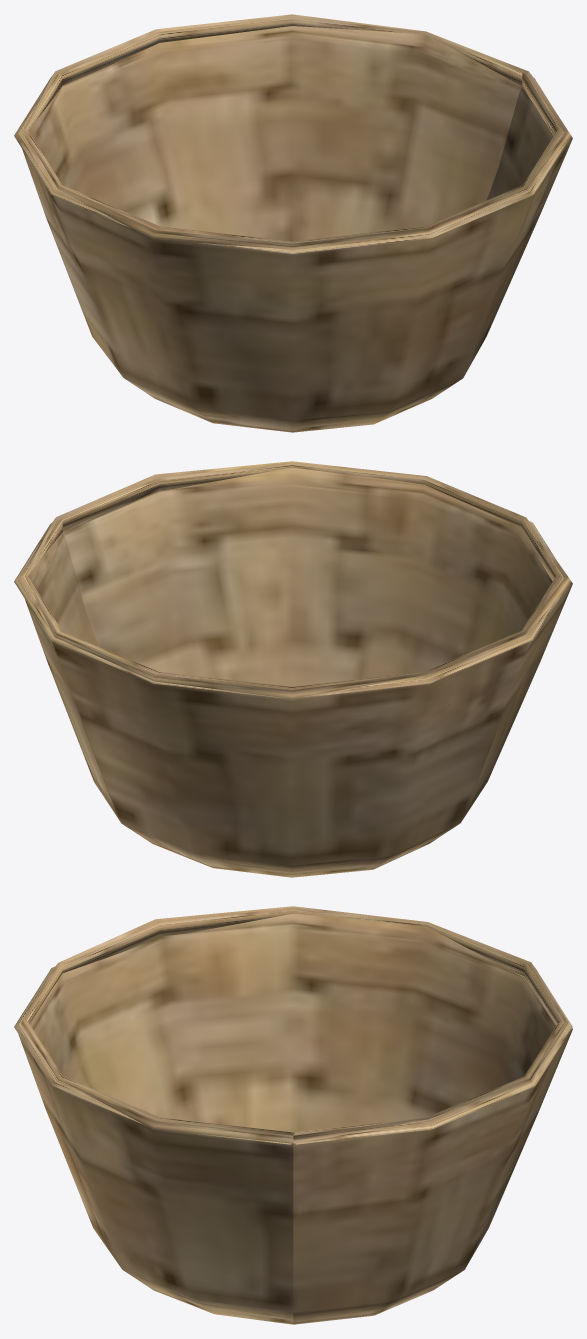
Rendered from prop_dala_lod2.glb.
3 views of the same model, one above another, from view 1: azimuth 30°, elevation 25°; view 2: azimuth 150°, elevation 25°; view 3: azimuth 270°, elevation 25° (orthographic).
Visible parts, largest first — view 1: prop_dala; view 2: prop_dala; view 3: prop_dala.
Part boxes in pixels (box(x1,y1,x2,y2)): prop_dala: box(14, 14, 572, 432); prop_dala: box(14, 461, 572, 877); prop_dala: box(14, 906, 572, 1324).
Size of the model in its own units: 0.45 by 0.21 by 0.45.
Materials: 1 (1 with a texture image).
